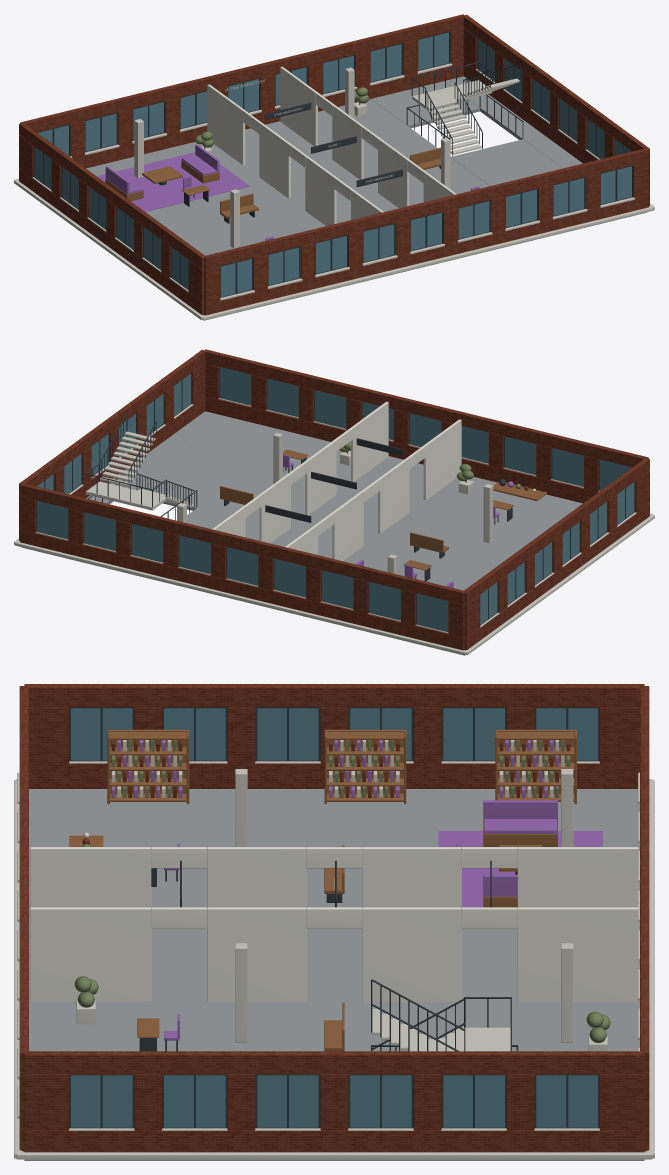
Rendered from SM_LegacyTower_Level06.fbx.
3 views of the same model, one above another, from view 1: azimuth 30°, elevation 25°; view 2: azimuth 150°, elevation 25°; view 3: azimuth 270°, elevation 25° (orthographic). The views are drawn at different scales.
Visible parts, largest first — view 1: SM_LegacyTower_Level06; view 2: SM_LegacyTower_Level06; view 3: SM_LegacyTower_Level06.
Part boxes in pixels (box(x1,y1,x2,y2)): SM_LegacyTower_Level06: box(14, 14, 654, 320); SM_LegacyTower_Level06: box(14, 349, 654, 655); SM_LegacyTower_Level06: box(14, 684, 654, 1160).
Size of what is drawn, in the model's own units: 2866 by 2066 by 486.
